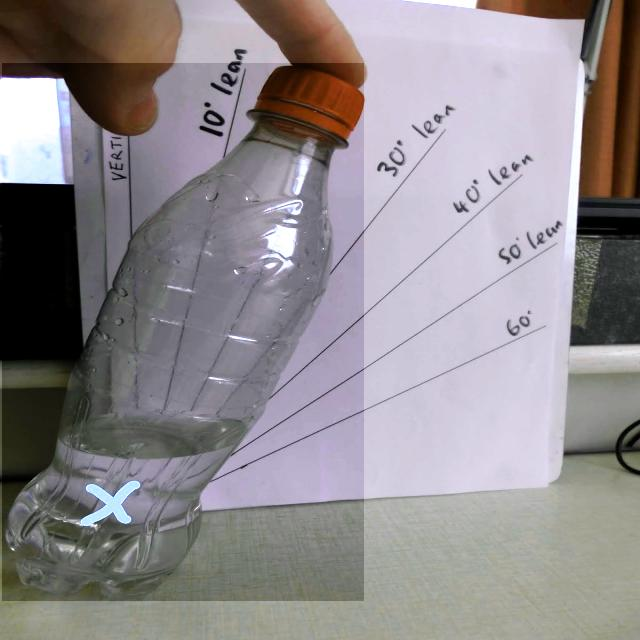half-bottle: (2, 63, 364, 601)
